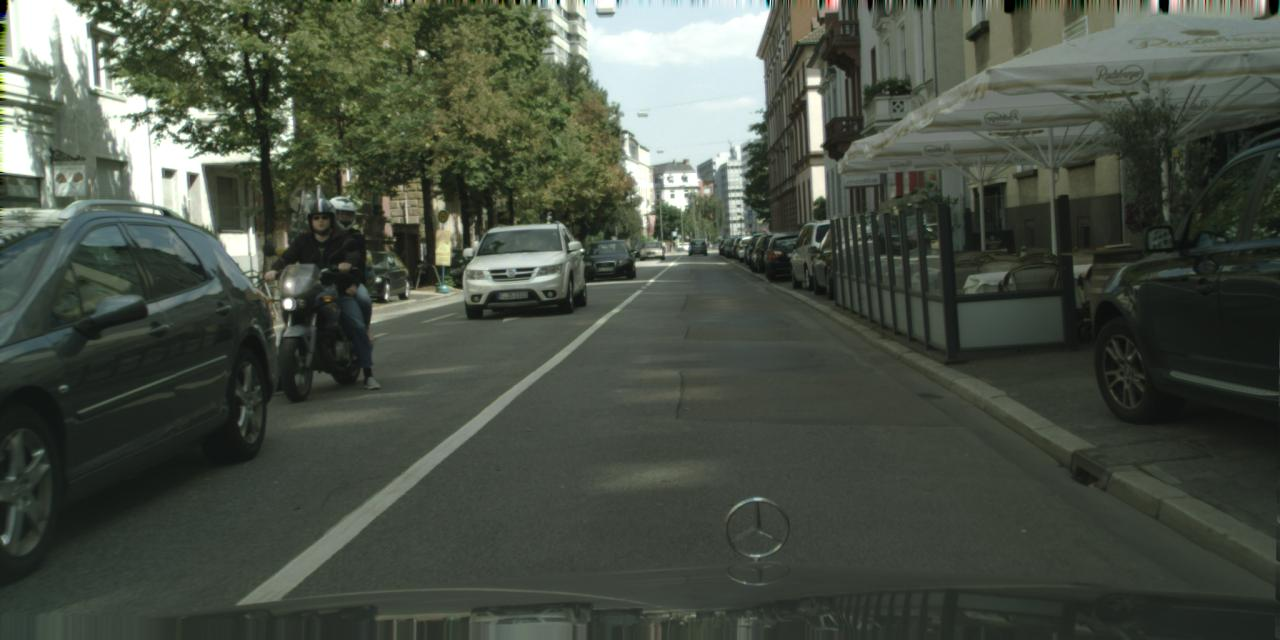ped: (282, 198, 360, 390), (712, 241, 714, 245)
